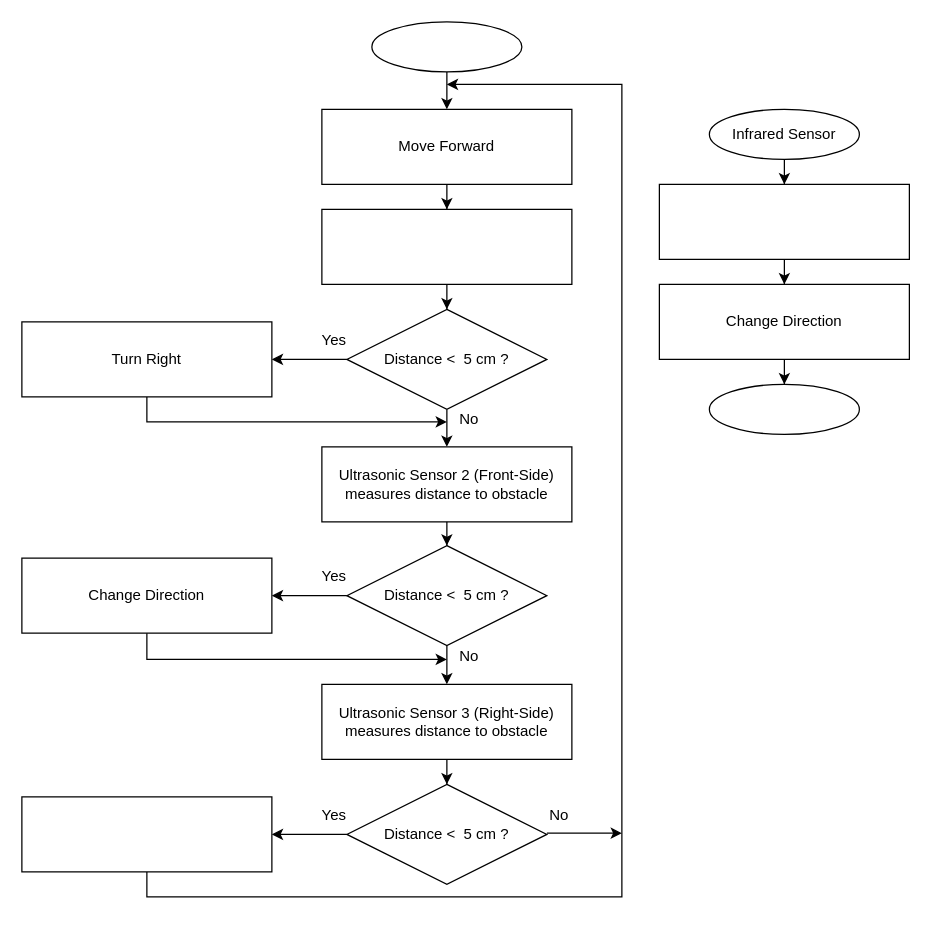
This 931x929 diagram has some shape labels left out. The centre of each missing label's shape, as x and y in pixels:
"End Interrupt" goes at (x=783, y=408).
"START" goes at (x=446, y=46).
"Stop" goes at (x=783, y=221).
"Turn Left" goes at (x=146, y=834).
"Ultrasonic Sensor 1 (Left-Side) measures distance to obstacle" goes at (x=446, y=246).
